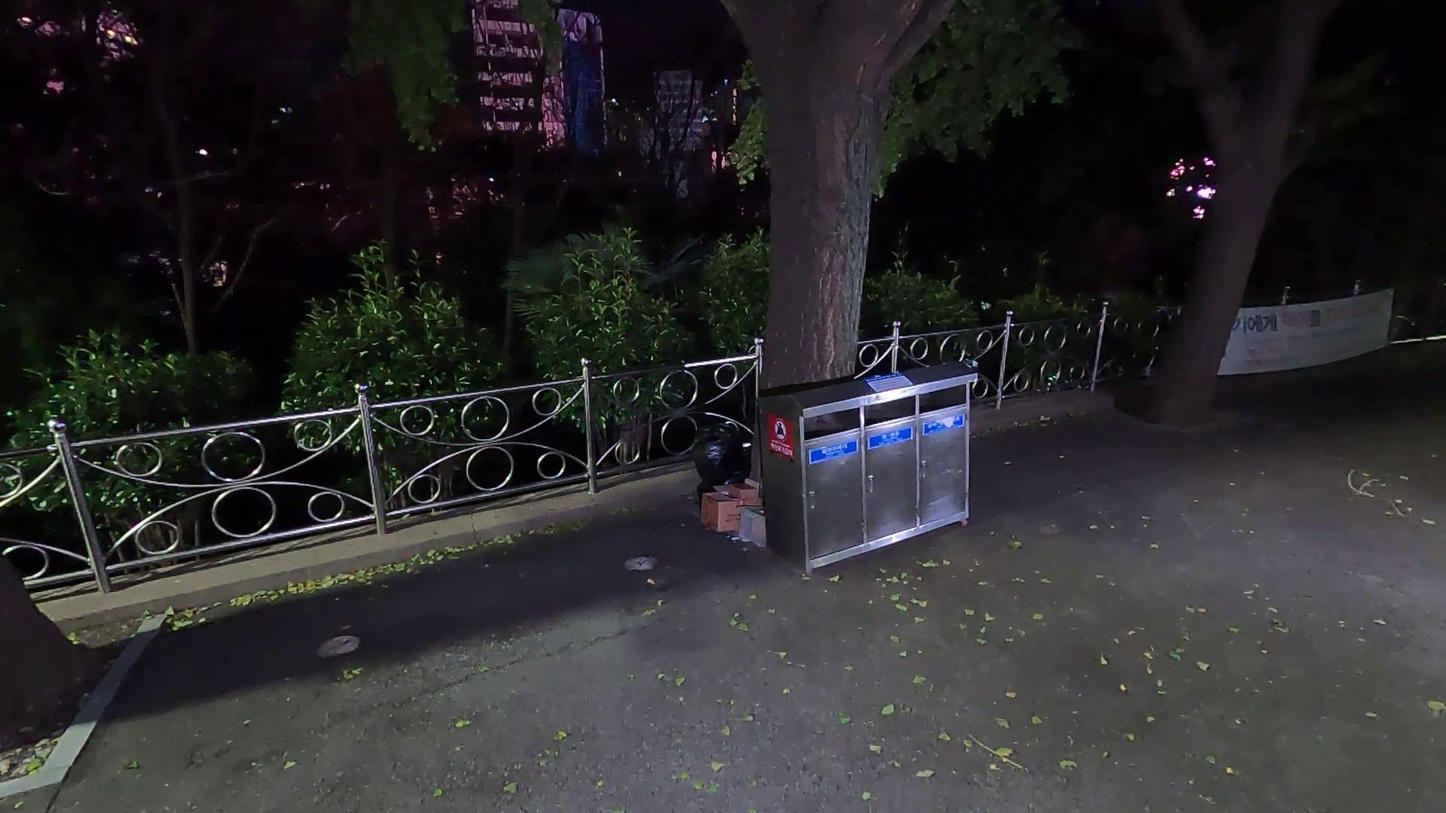trash: (687, 412, 761, 514), (699, 483, 763, 543), (733, 500, 771, 550), (715, 468, 764, 505)
